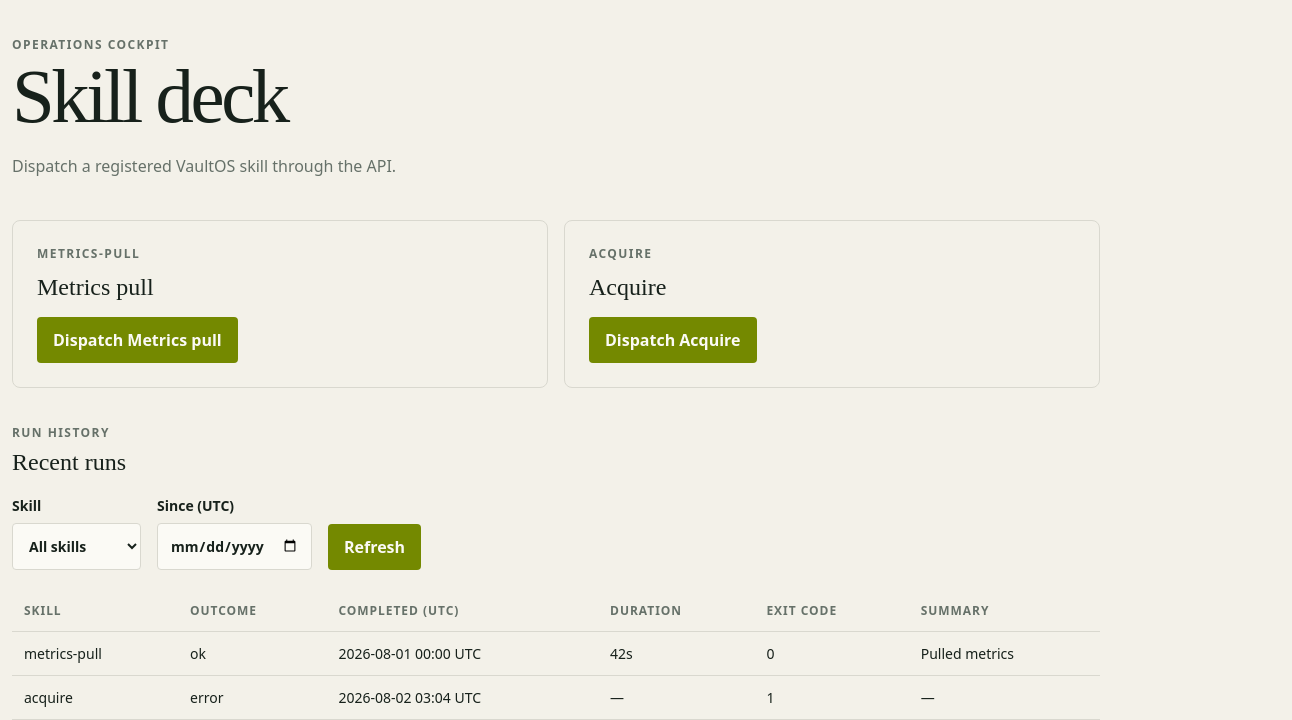
Scenario: Run history panel › shows only the latest-selected filter's rows when an earlier request resolves last
Expected: the number of rows is 3, [12,590,1100,631]; [12,631,1100,675]; [12,675,1100,719]
Select "Metrics pull" in the dropdown labelled "Skill" at (76, 546), box [12,522,141,570]
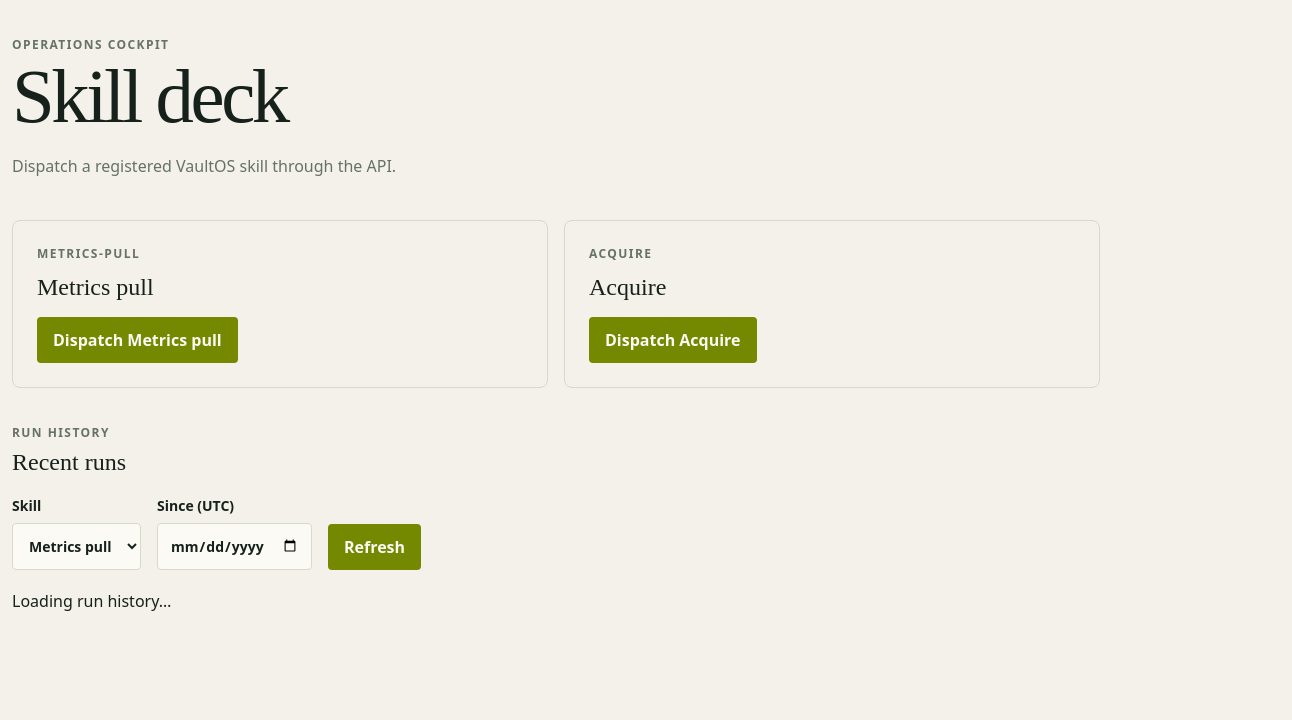
Select "Acquire" in the dropdown labelled "Skill" at (76, 546), box [12,522,141,570]
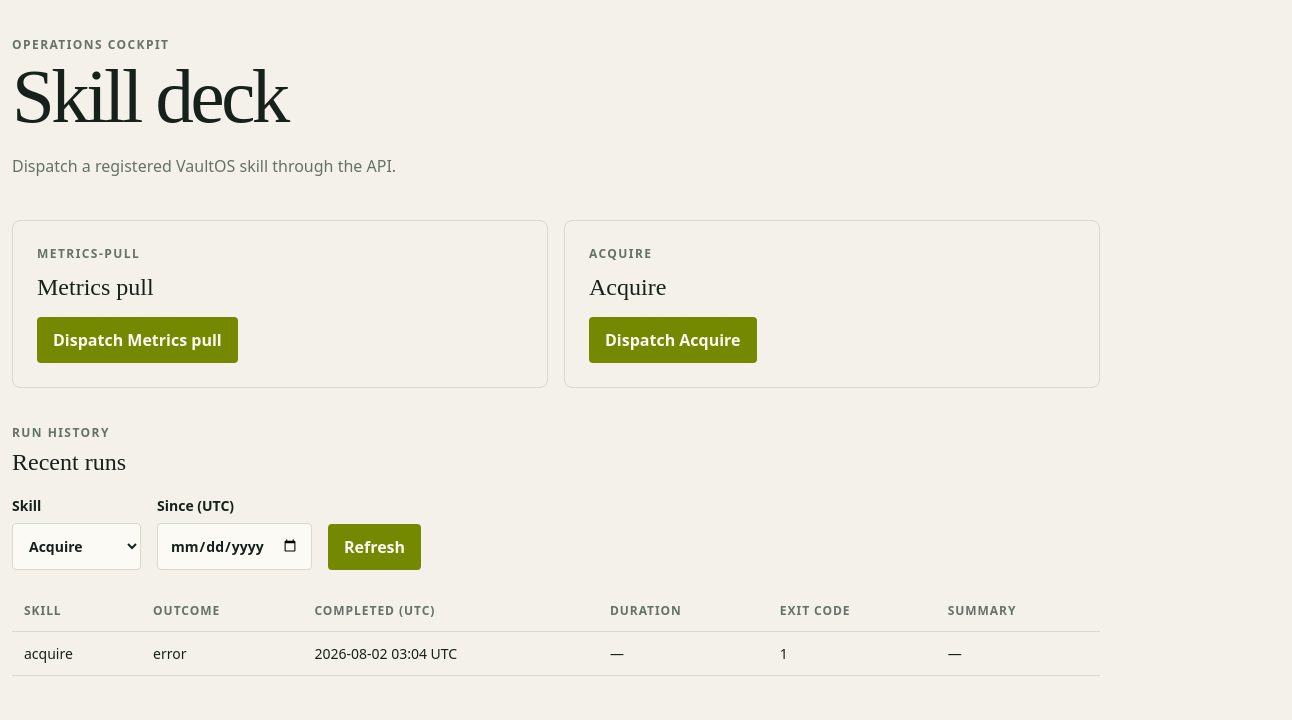
Expected: the number of rows is 2, [12,590,1100,631]; [12,631,1100,675]
Expected: the text "acquire" is shown, [12,631,141,675]
